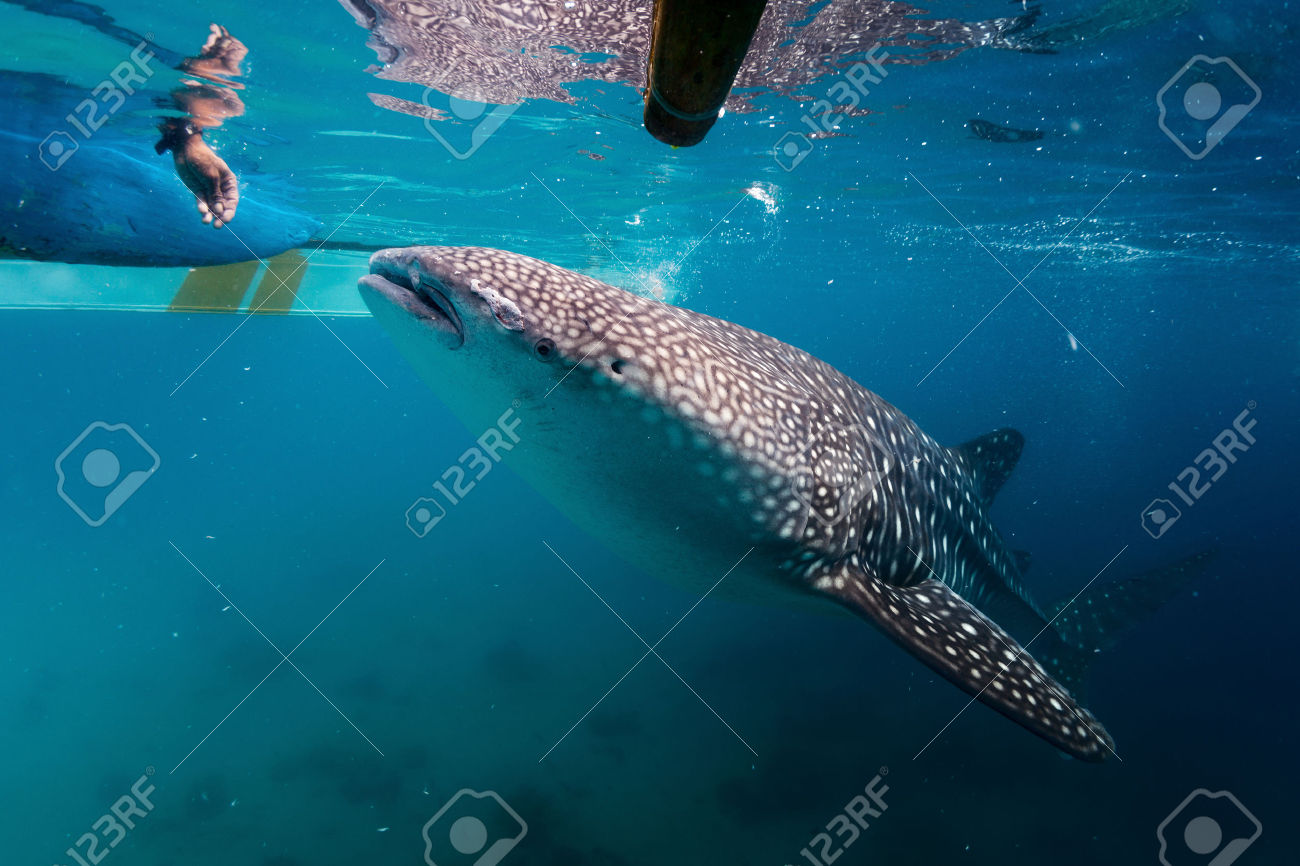Rhincodon_typusw: (358, 228, 1155, 786)
